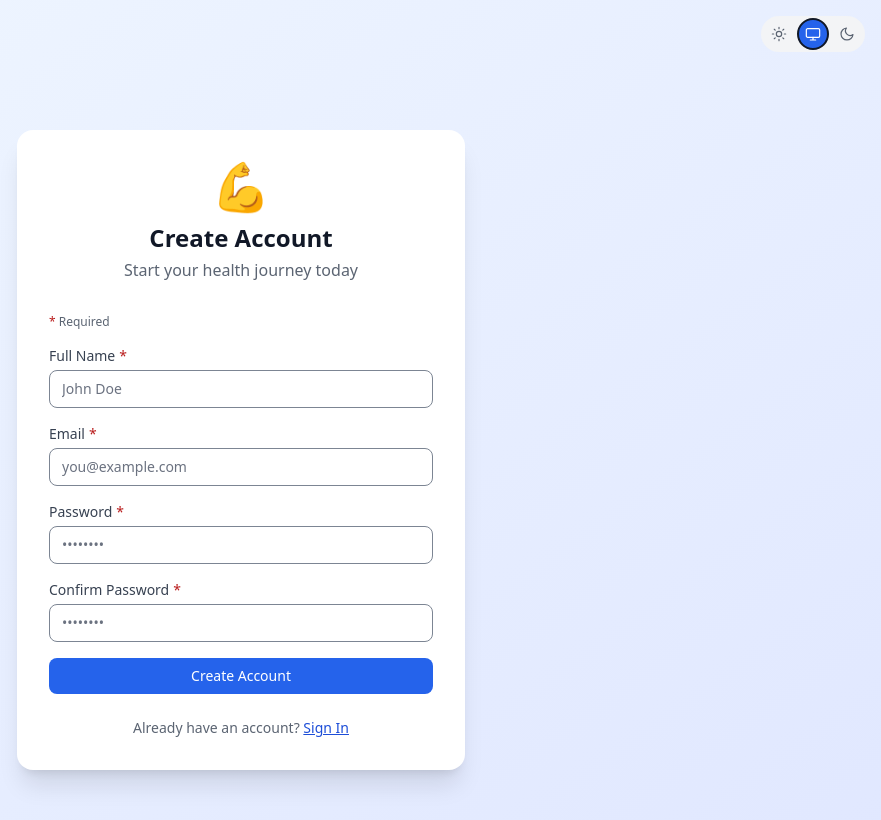
Scenario: RegisterPage › GivenAnEmptyName_WhenTheFormIsSubmitted_ThenItIsRefusedWithoutCallingTheApi
In the field labelled "Email": (241, 467) [49,448,433,486], type "dana@example.com"
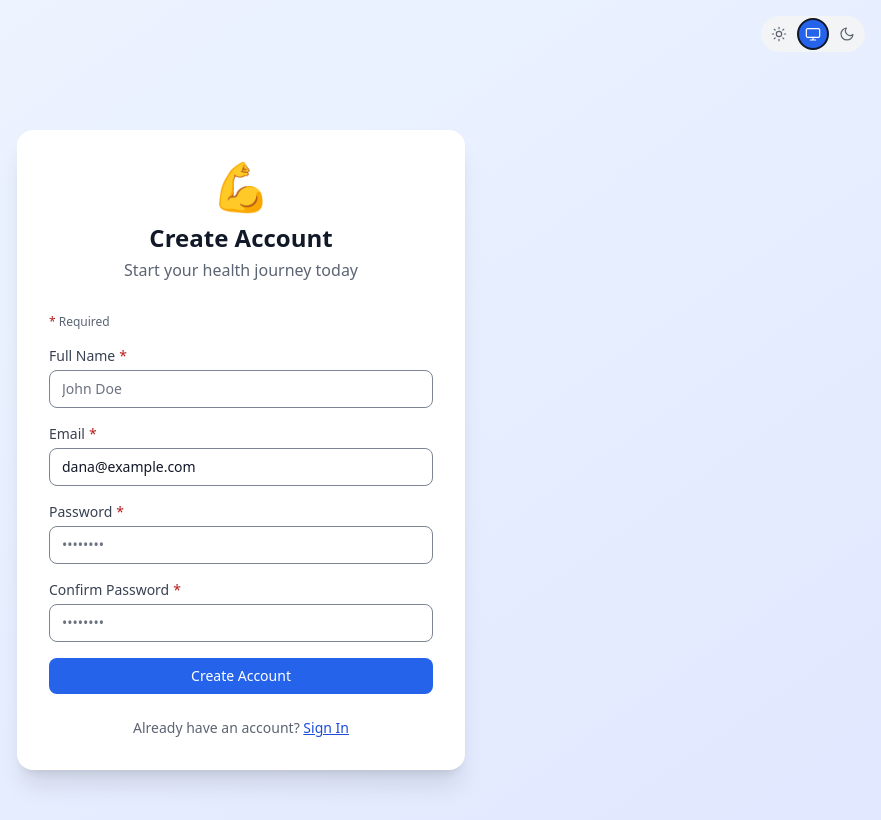
In the password field labelled "Password": (241, 545) [49,526,433,564], type "eight-ch"
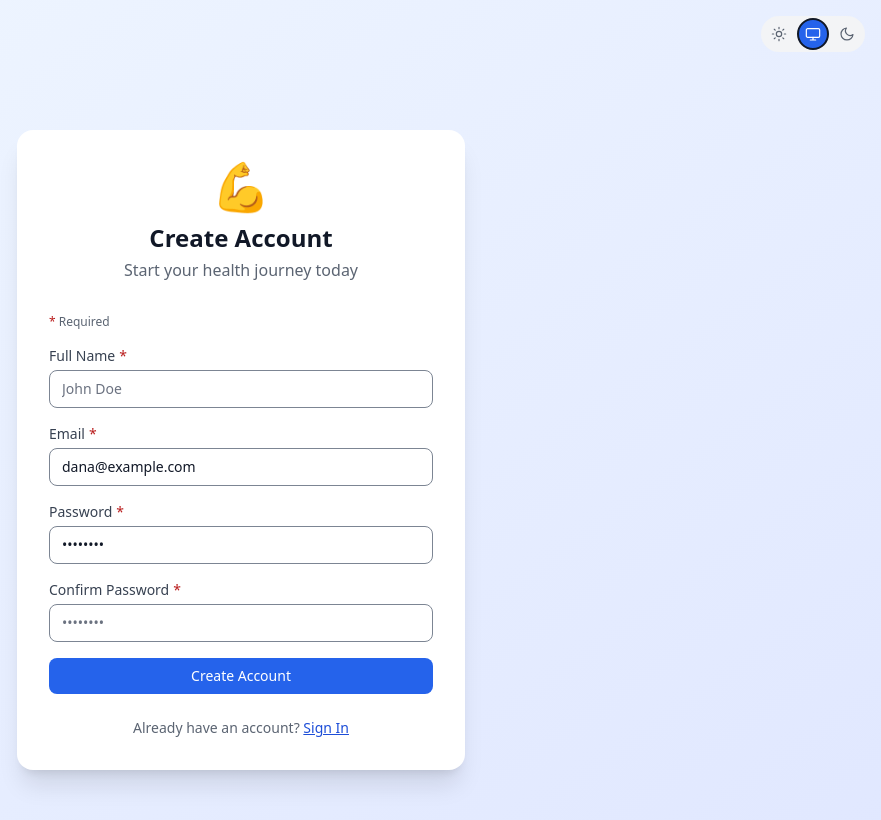
In the password field labelled "Confirm Password": (241, 623) [49,604,433,642], type "eight-ch"
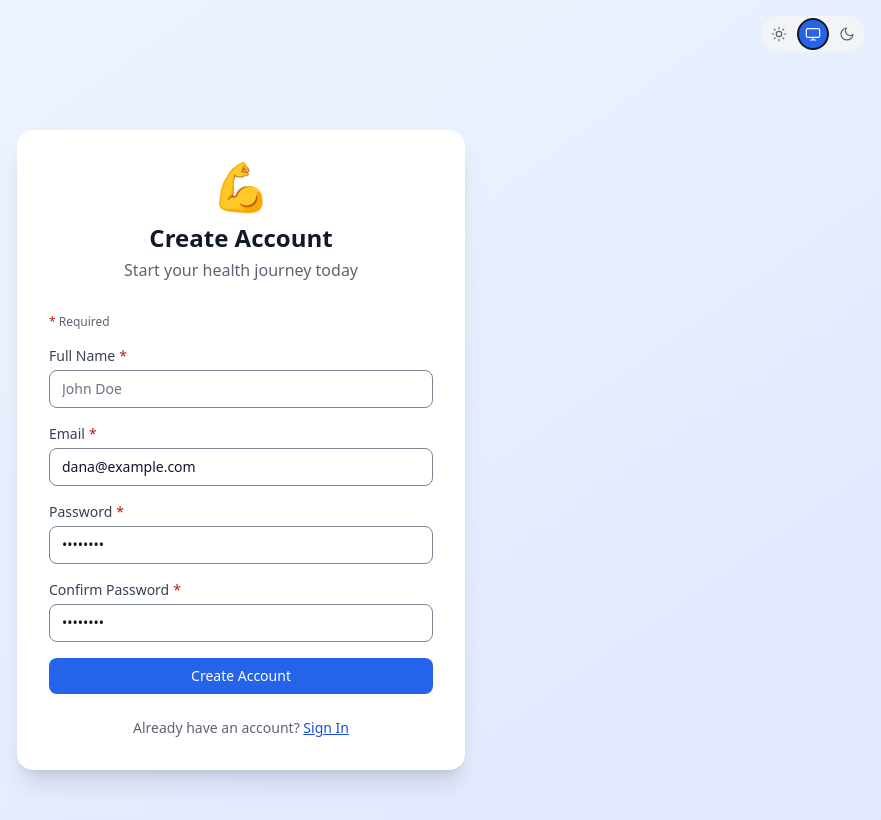
Submit the form from the button "Create Account", box [49,658,433,694]
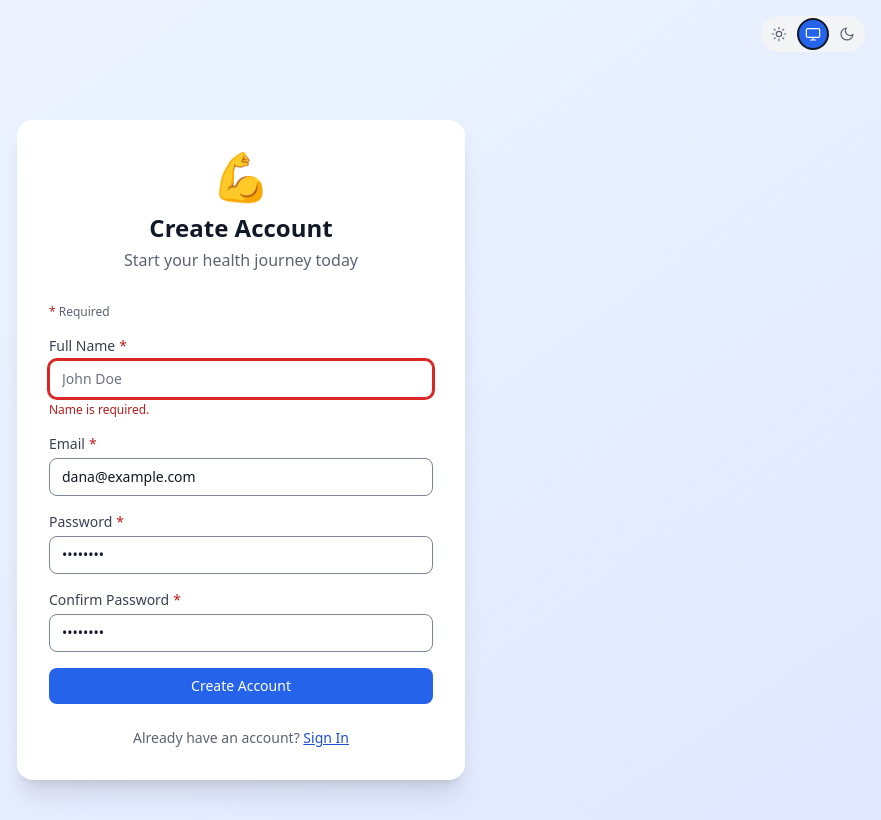
Check: the text "Name is required." is shown, box [49,401,149,418]
